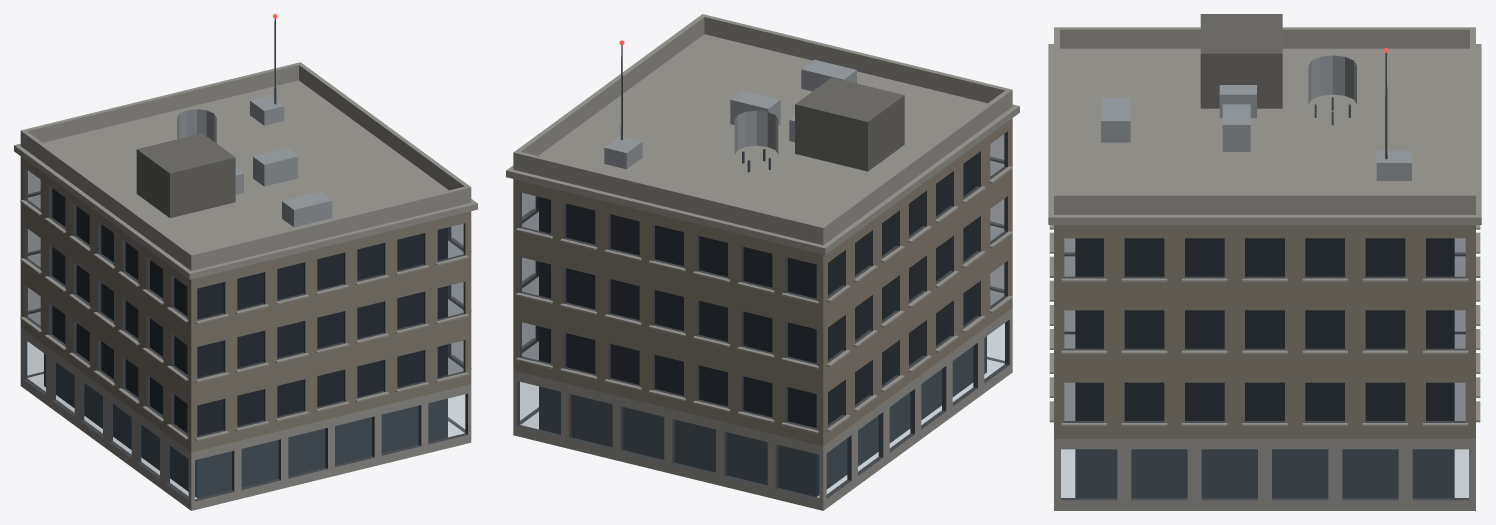
The model's file is office-2.glb.
The picture shows the model from 3 angles, left to right: view 1: azimuth 30°, elevation 25°; view 2: azimuth 150°, elevation 25°; view 3: azimuth 270°, elevation 25°; orthographic projection. The views are drawn at different scales.
Parts seen in each view (by area): view 1: office-2; view 2: office-2; view 3: office-2.
Boxes of the visible parts, x1,y1,x2,y2 form: office-2: (14, 14, 477, 510); office-2: (506, 14, 1019, 510); office-2: (1048, 14, 1481, 510).
Bounding box in the file's own units: 17.54 × 20.02 × 18.51.
